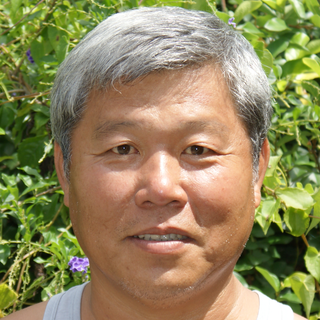eye: (178, 141, 226, 165), (99, 138, 145, 163)
